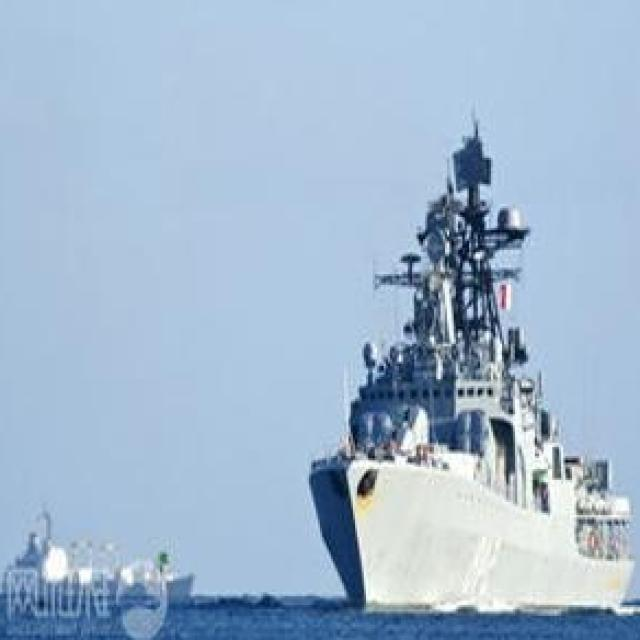navalvessels: (309, 97, 624, 617), (6, 489, 200, 607)
